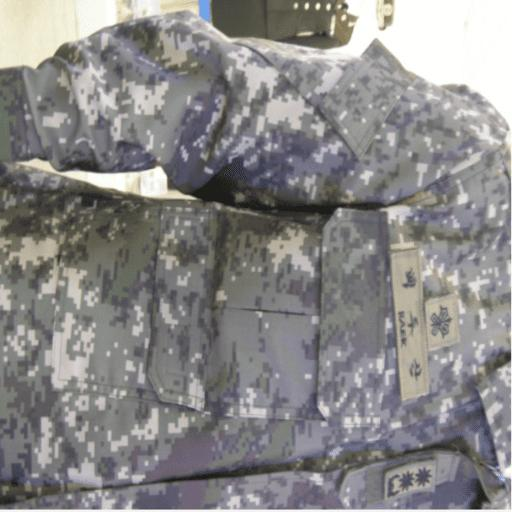korea army: (1, 10, 510, 509), (0, 12, 506, 509)
